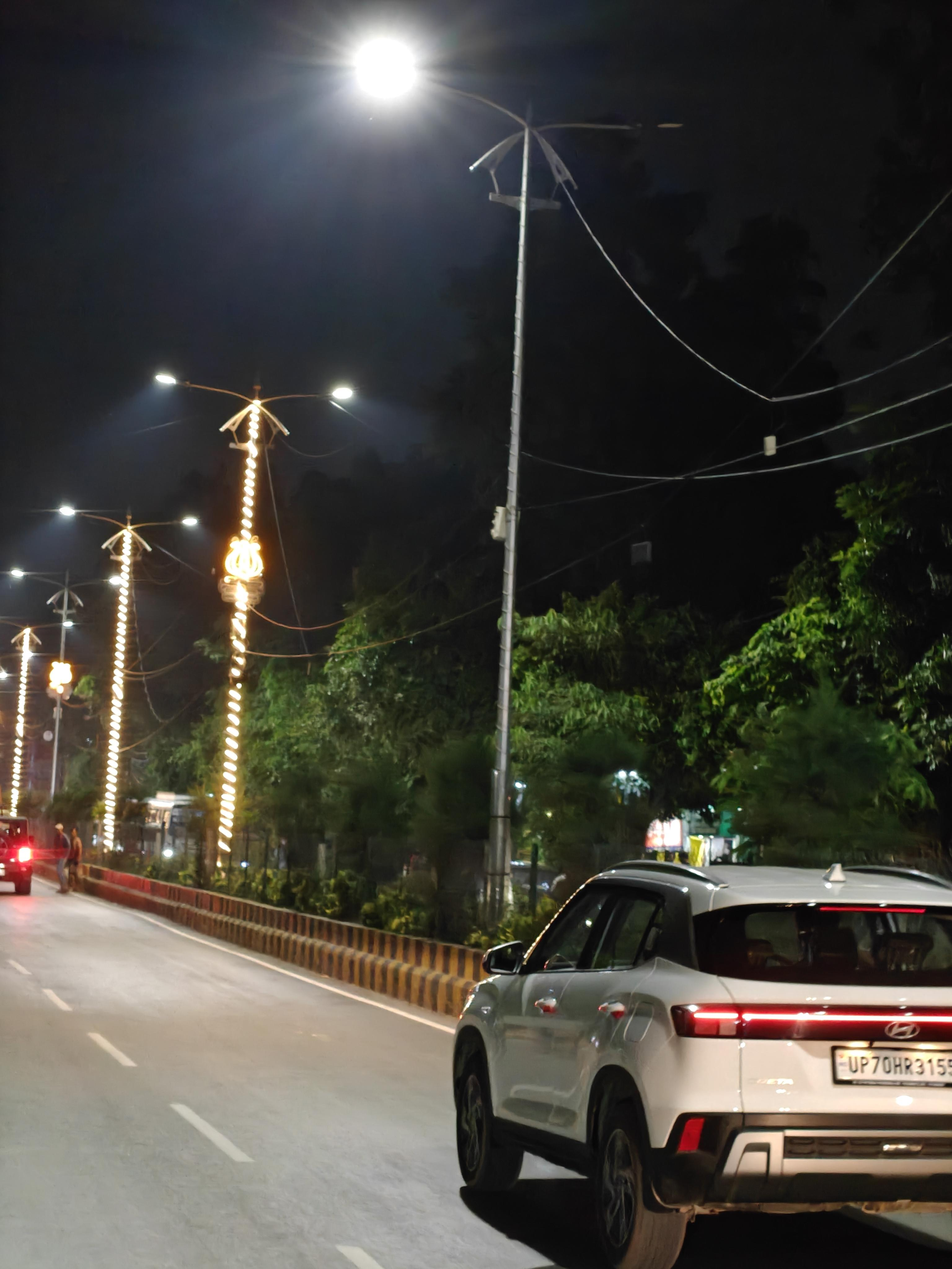streetlight: (636, 117, 685, 134)
